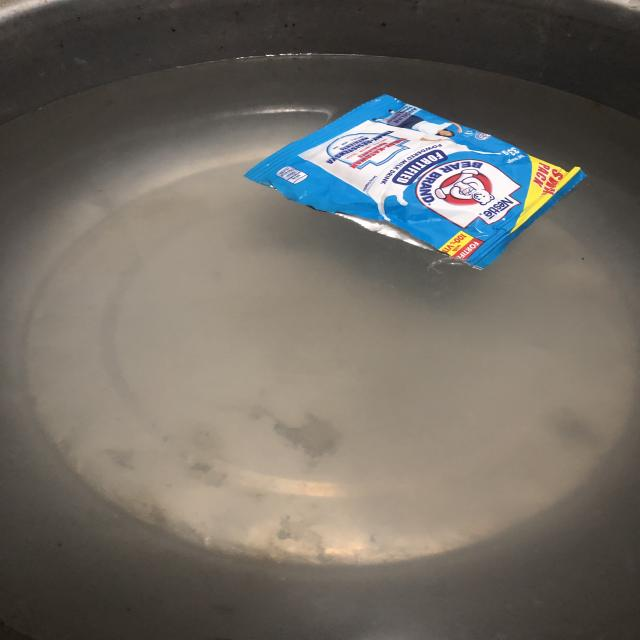Plastic Wrapper: (246, 95, 585, 268)
